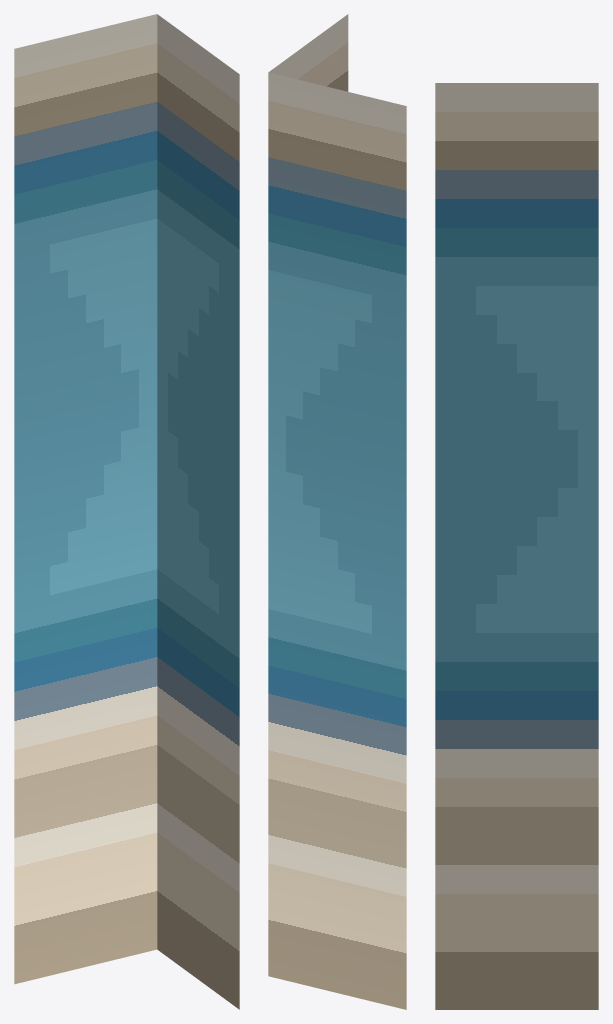
The picture shows the model from 3 angles, left to right: view 1: azimuth 30°, elevation 25°; view 2: azimuth 150°, elevation 25°; view 3: azimuth 270°, elevation 25°; orthographic projection. The views are drawn at different scales.
Bounding box in the file's own units: 0.5 × 3.12 × 0.5.
Materials: 1 (1 with a texture image).
